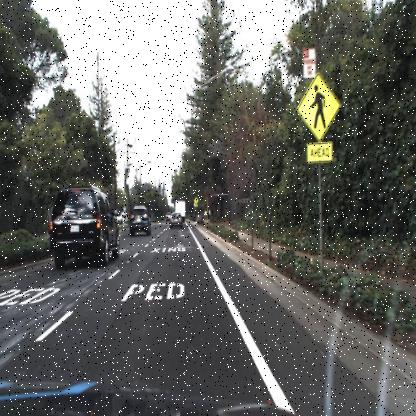car: (47, 185, 121, 268), (127, 201, 150, 237), (169, 209, 185, 229), (164, 210, 172, 222)
truck: (174, 198, 188, 224)
